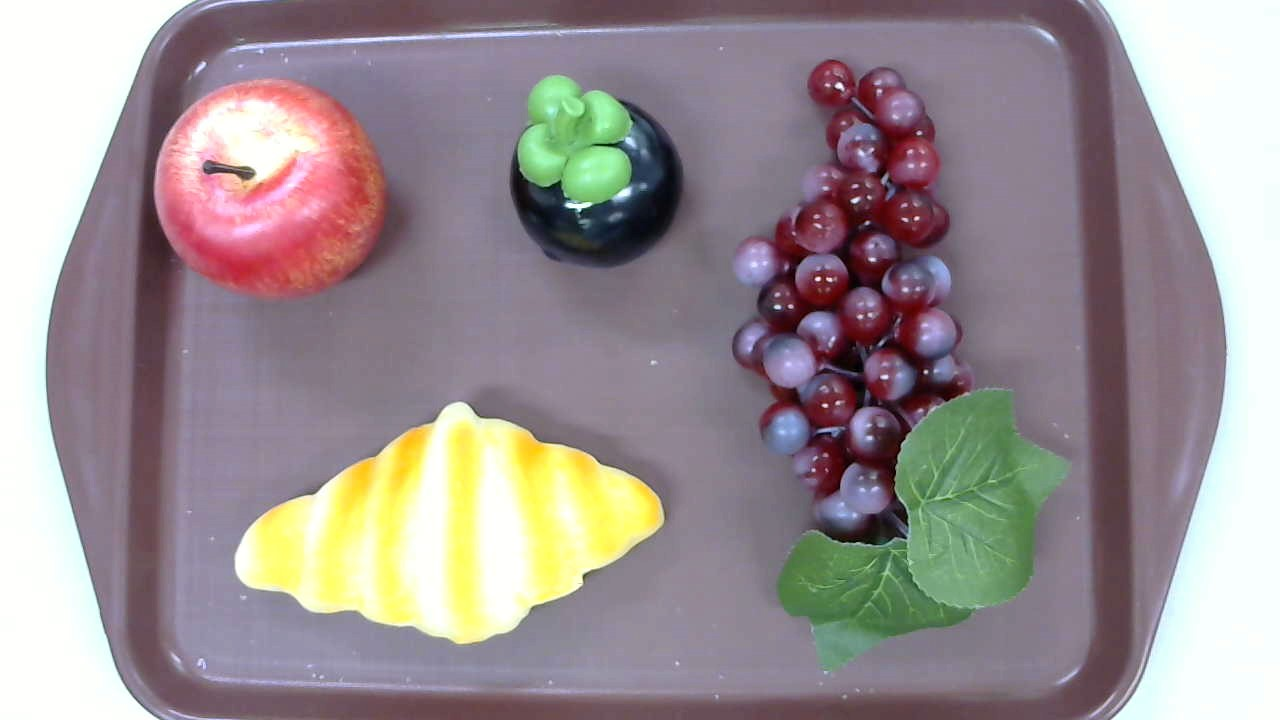croissant: (234, 402, 663, 645)
grape: (732, 57, 1072, 683)
mangosteen: (509, 75, 686, 272)
red apple: (153, 79, 388, 301)
